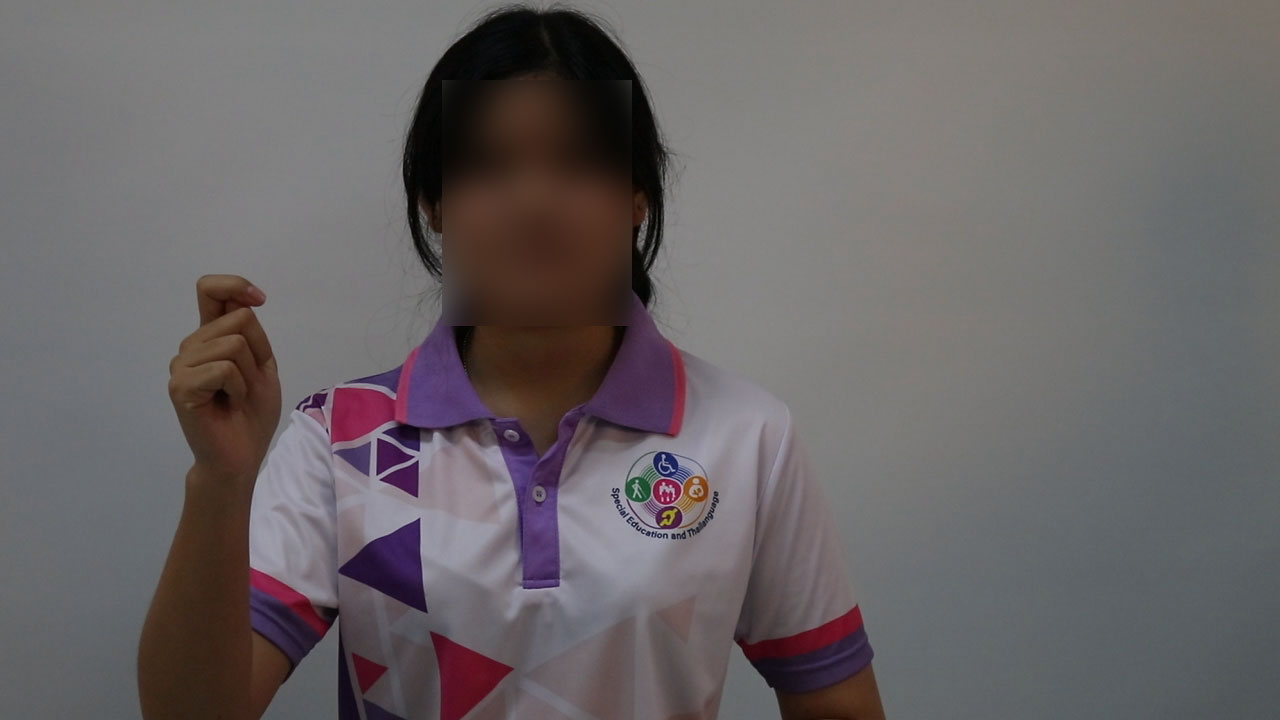or: (161, 269, 291, 470)
